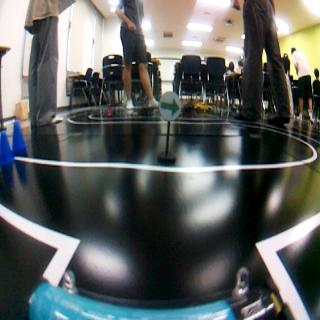right: (158, 93, 180, 118)
